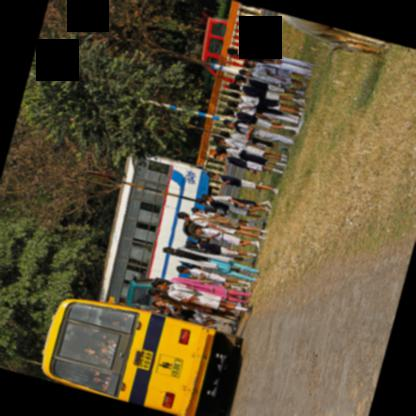backpack: (192, 212, 238, 228), (241, 43, 274, 60)
